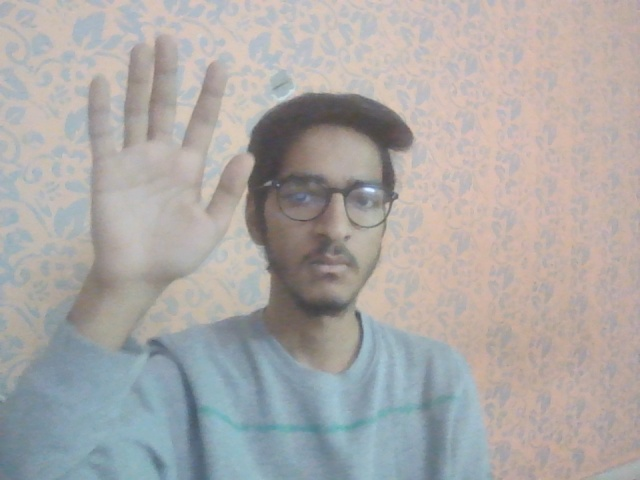Hello: (83, 29, 258, 292)
